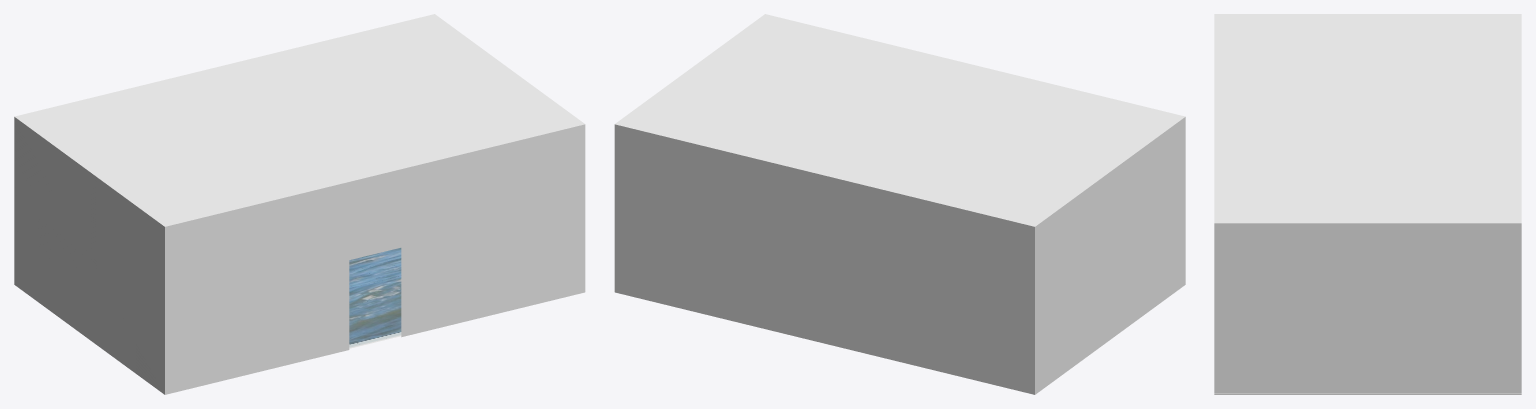
Rendered from 1777990027888_PLN_Brique_FGraillot_01.glb.
The picture shows the model from 3 angles, left to right: view 1: azimuth 30°, elevation 25°; view 2: azimuth 150°, elevation 25°; view 3: azimuth 270°, elevation 25°; orthographic projection. The views are drawn at different scales.
Visible parts, largest first — view 1: PLN Brique FGraillot01; view 2: PLN Brique FGraillot01; view 3: PLN Brique FGraillot01.
Part boxes in pixels (x1,y1,x2,y2): PLN Brique FGraillot01: (14, 14, 585, 394); PLN Brique FGraillot01: (614, 14, 1185, 394); PLN Brique FGraillot01: (1214, 14, 1521, 394).
Bounding box in the file's own units: 1.62 × 0.618 × 1.
7 materials, 6 textured.
